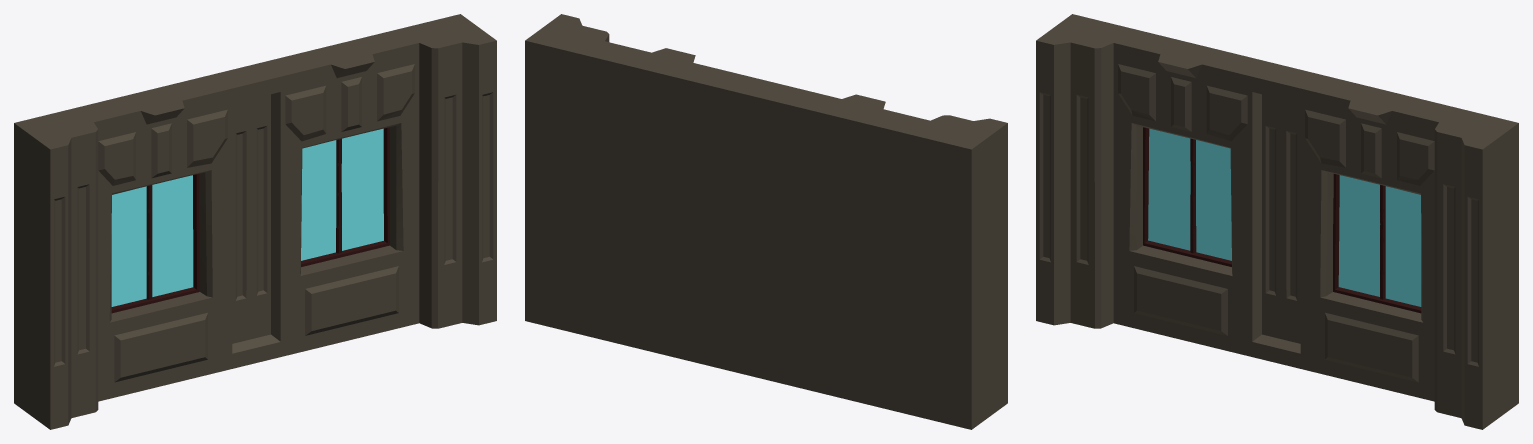
Rendered from P_facadeDETAIL1SquareWsimpleAvecBF.FBX.
3 renders of one model, left to right at view 1: azimuth 30°, elevation 25°; view 2: azimuth 150°, elevation 25°; view 3: azimuth 330°, elevation 25°, orthographic.
Visible parts, largest first — view 1: Box061; view 2: Box061; view 3: Box061.
Boxes of the visible parts, x1=… form: Box061: x1=14, y1=14, x2=496, y2=429; Box061: x1=525, y1=14, x2=1007, y2=429; Box061: x1=1036, y1=14, x2=1518, y2=429.
Bounding box in the file's own units: 500 × 300 × 70.51.
